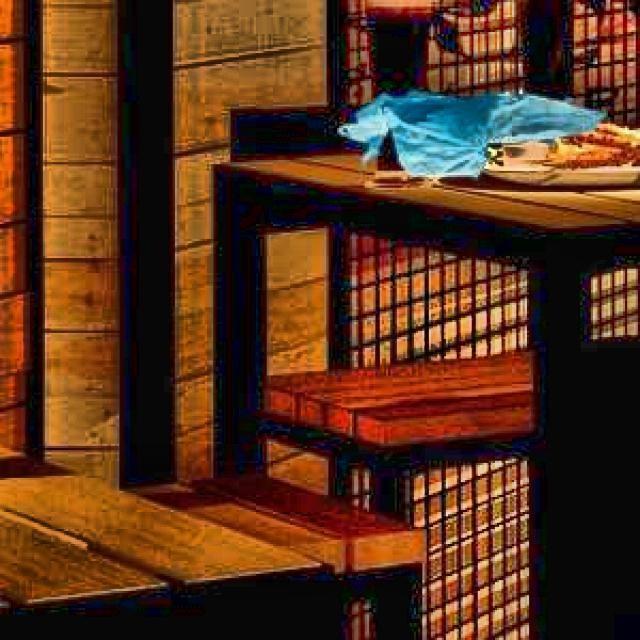Plastic: (320, 62, 612, 194)
